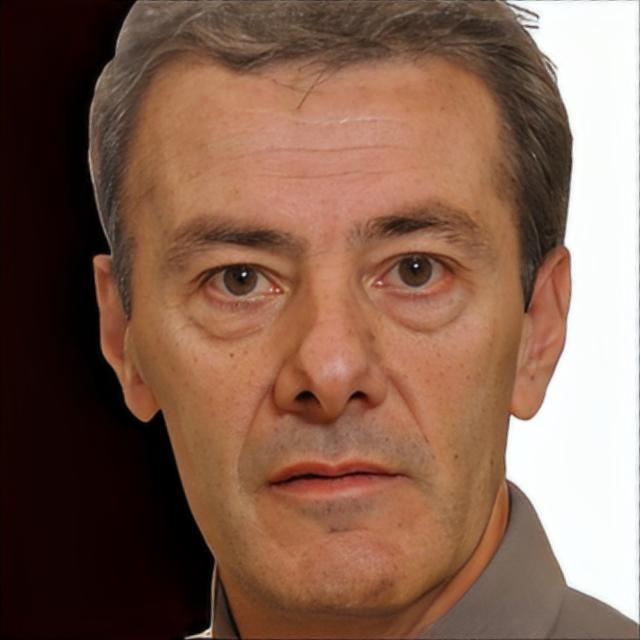neutral: (128, 37, 522, 622)
